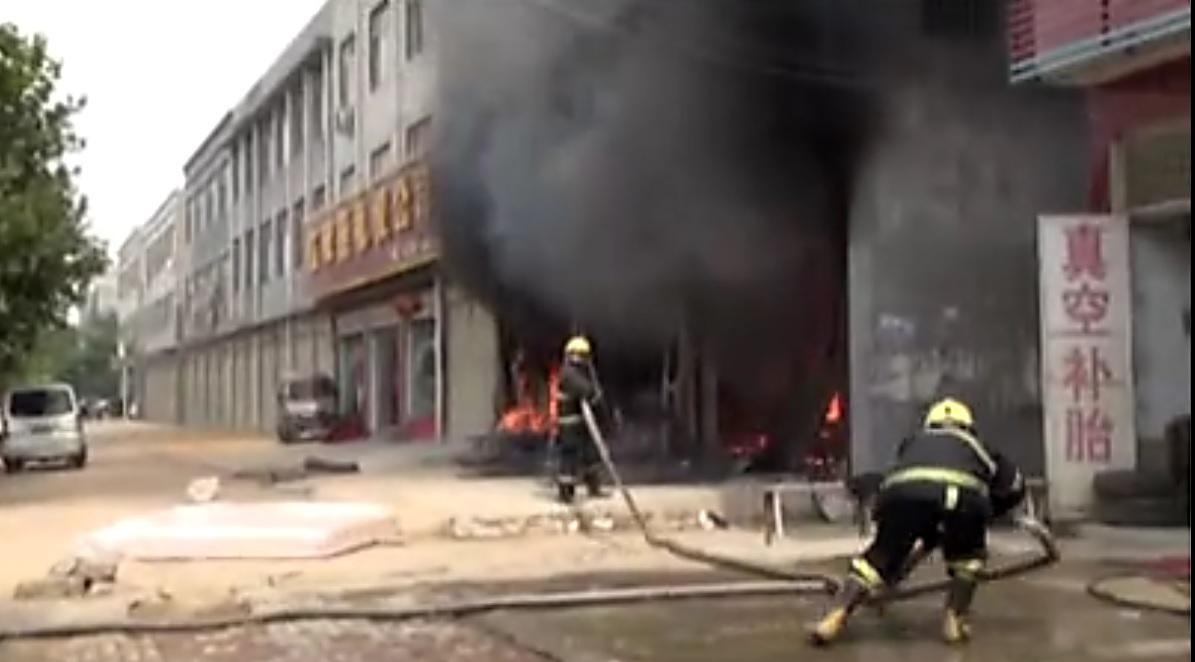fire: (498, 376, 566, 432), (817, 389, 845, 426)
